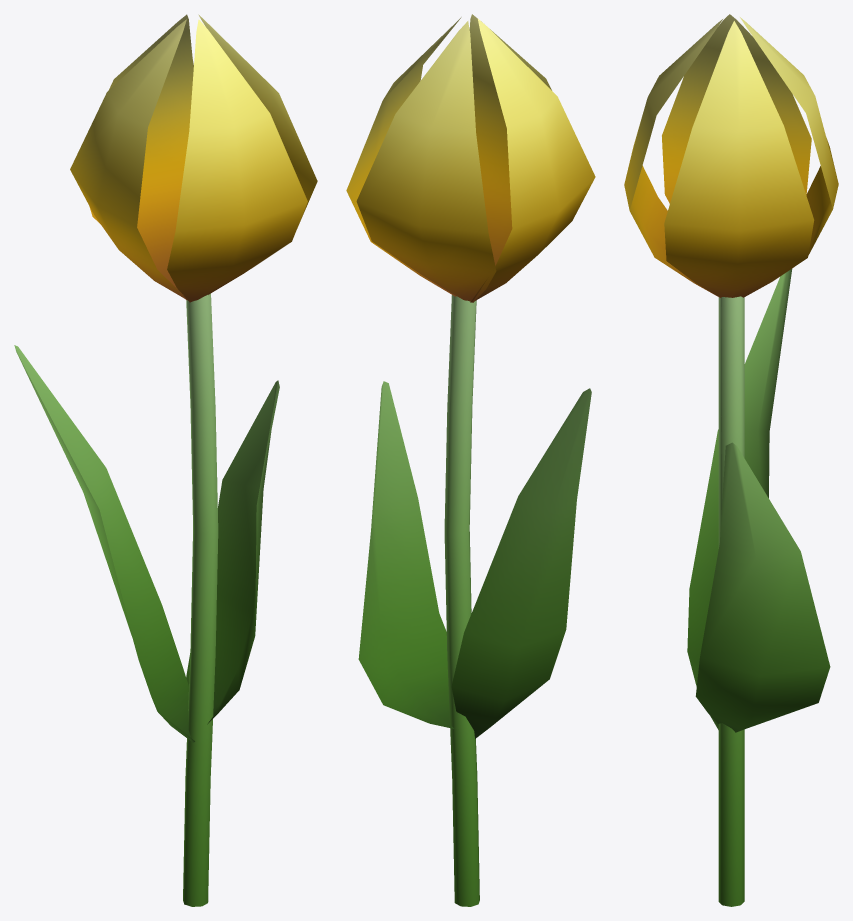
File: Flower7.fbx
The picture shows the model from 3 angles, left to right: view 1: azimuth 30°, elevation 25°; view 2: azimuth 150°, elevation 25°; view 3: azimuth 270°, elevation 25°; orthographic projection.
Parts seen in each view (by area): view 1: Circle.004; view 2: Circle.004; view 3: Circle.004.
Part boxes in pixels (x1,y1,x2,y2): Circle.004: (14, 14, 317, 906); Circle.004: (346, 14, 595, 906); Circle.004: (624, 14, 838, 906).
Bounding box in the file's own units: 33.06 × 115 × 25.42.
